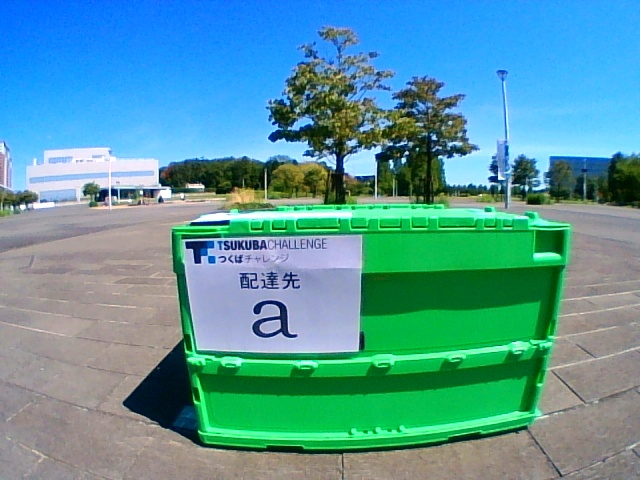green_box: (172, 203, 572, 450)
tag_a: (198, 241, 357, 350)
